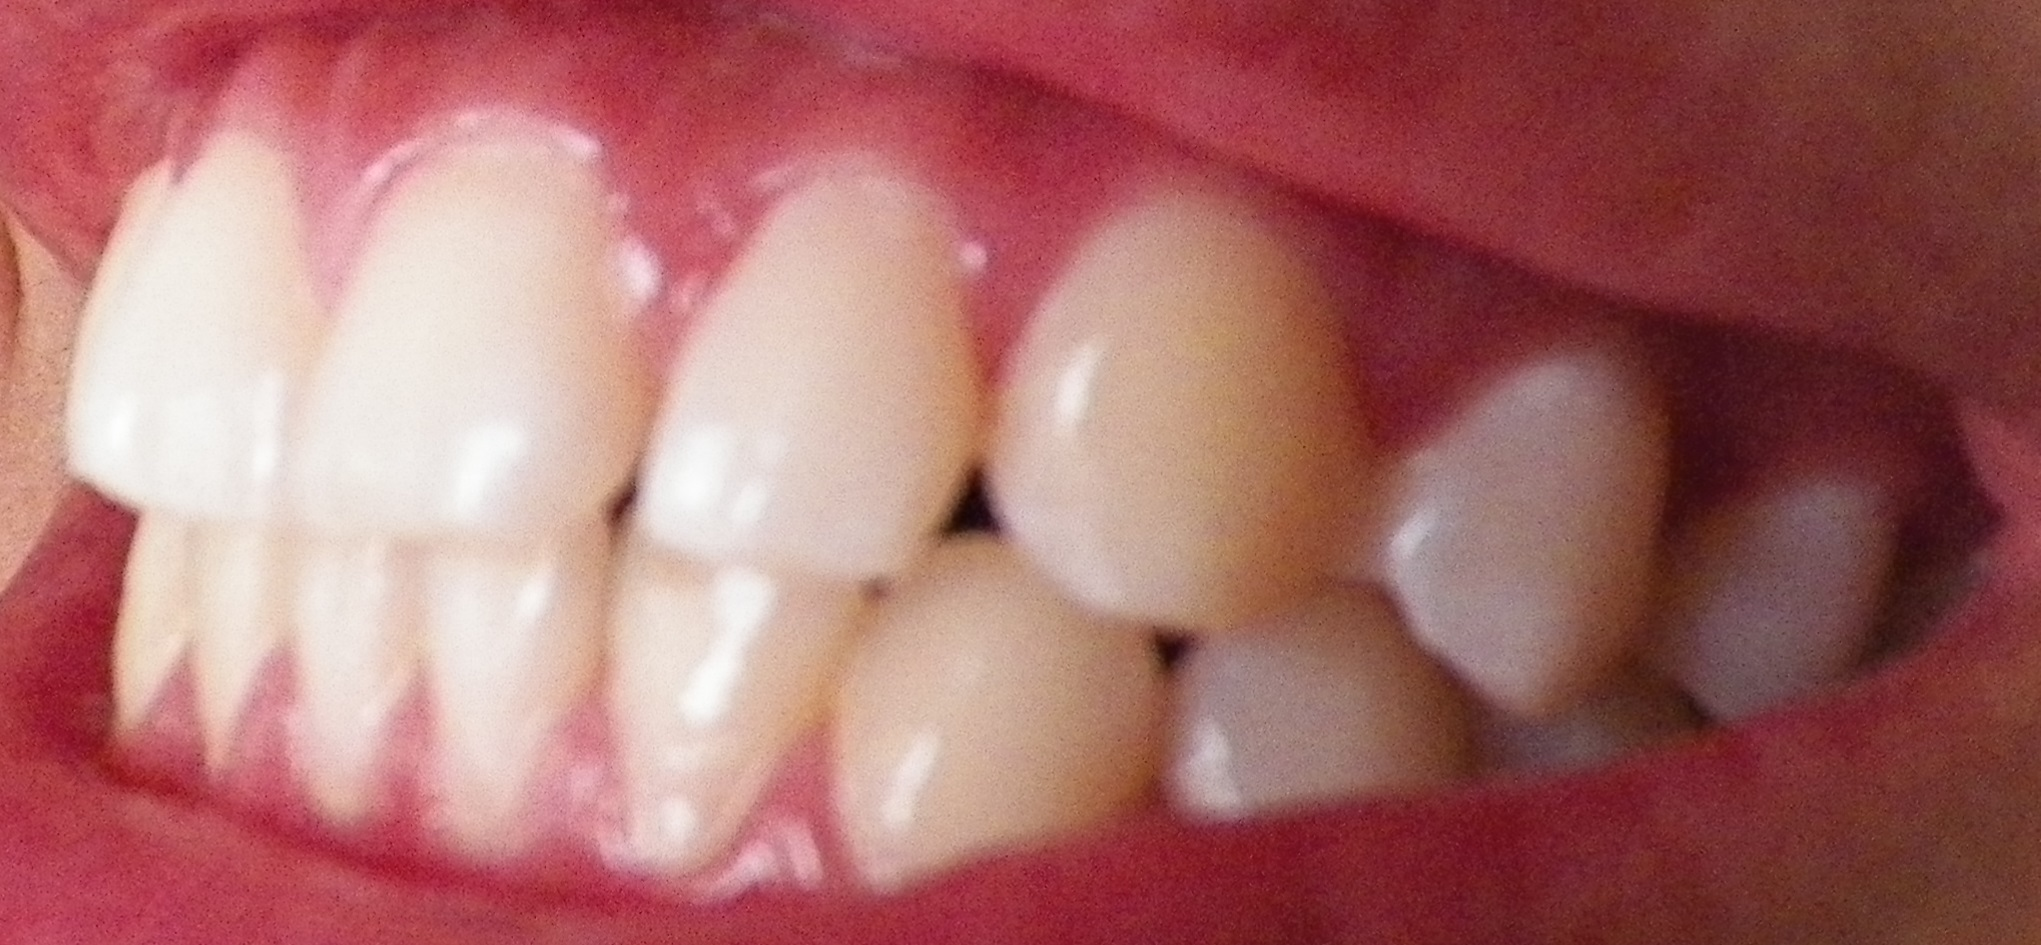boca: (35, 118, 1886, 834)
